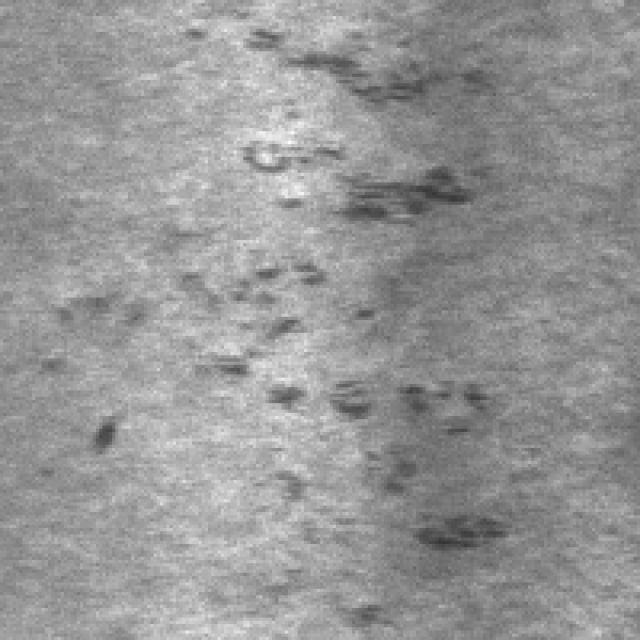rolled-in_scale: (170, 259, 499, 554), (214, 19, 461, 221)
